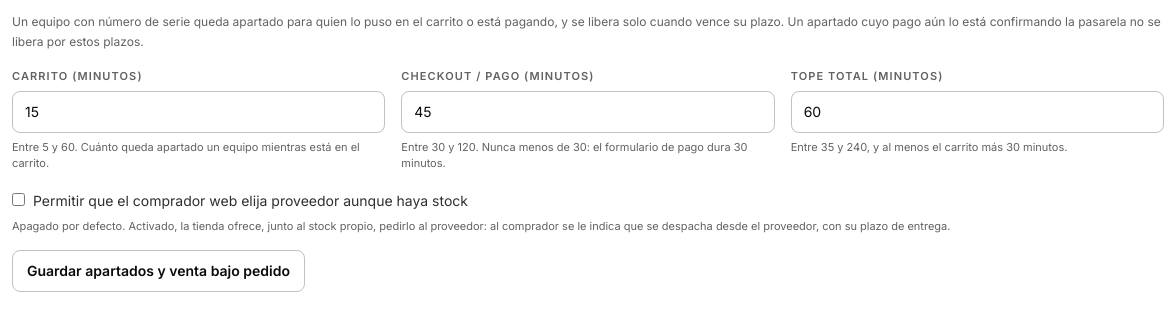
Test case: field errors from the server are said under their field
Replace the text in the number field labelled "Checkout / pago (minutos)" with "10" at (588, 112), box [401,90,775,132]
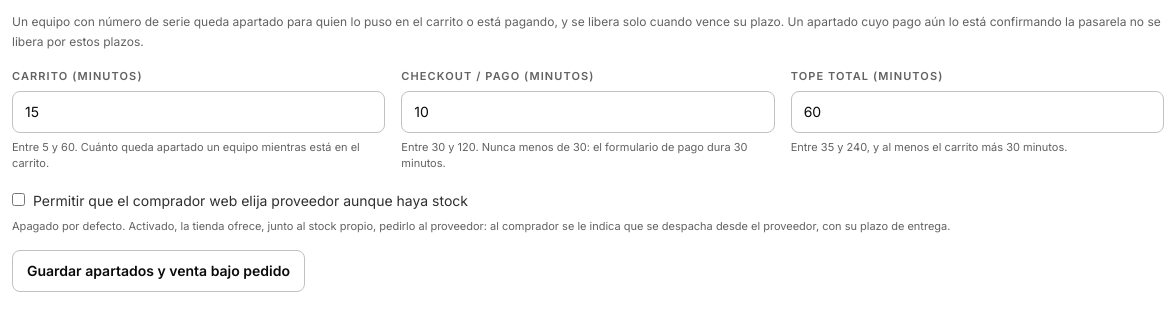
Click the button "Guardar apartados y venta bajo pedido" at (158, 271), box [12,250,305,292]
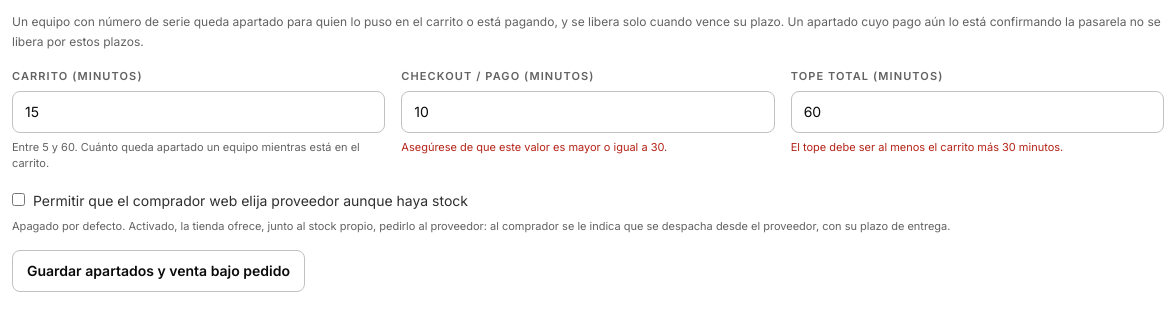
Now the text "Asegúrese de que este valor es mayor o igual a 30." is shown, box [401,140,667,154]
Now the text "El tope debe ser al menos el carrito más 30 minutos." is shown, box [791,140,1063,154]
